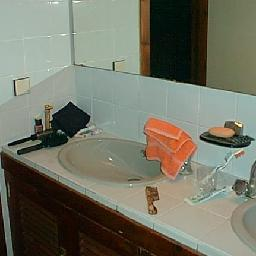Lavamanos: (54, 130, 201, 197)
